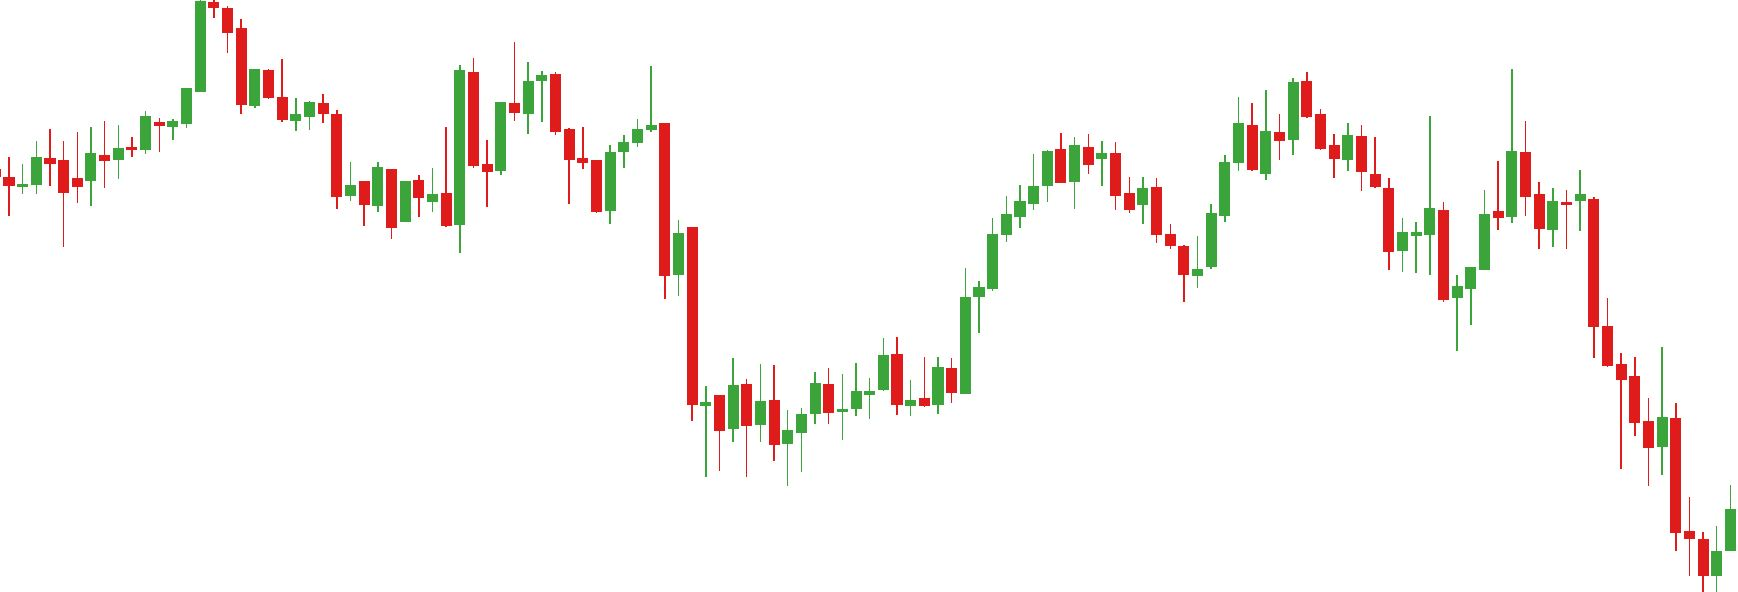sell: (1053, 101, 1259, 211)
